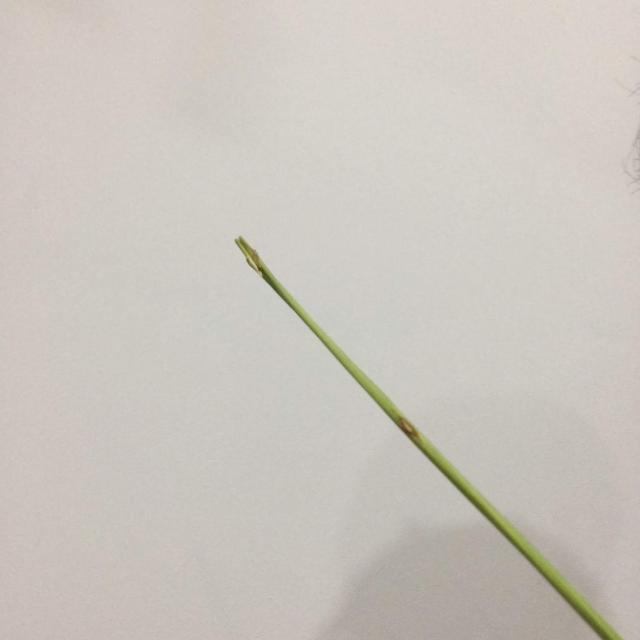Blast: (398, 418, 424, 442)
